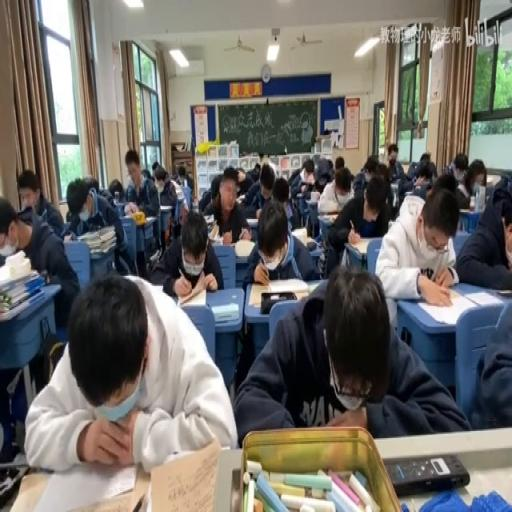calculator: (22, 455, 138, 511), (146, 436, 222, 510), (413, 286, 484, 327), (0, 266, 40, 294), (210, 301, 238, 323), (178, 287, 206, 307), (232, 238, 255, 258), (349, 236, 373, 255), (290, 224, 308, 248), (308, 244, 324, 258), (306, 278, 320, 292), (209, 233, 224, 246), (112, 200, 125, 214), (148, 248, 160, 263), (414, 176, 429, 188), (320, 213, 339, 222), (202, 213, 214, 225), (174, 186, 184, 200), (246, 215, 258, 226), (304, 196, 317, 206), (62, 233, 73, 243), (460, 205, 474, 212), (235, 193, 245, 202), (389, 181, 399, 189), (296, 190, 305, 198), (404, 191, 413, 196)
paper: (26, 270, 236, 471), (234, 268, 464, 442), (0, 190, 78, 337), (242, 198, 320, 293), (324, 169, 392, 273), (64, 174, 129, 282), (466, 294, 512, 430), (158, 206, 222, 299), (122, 145, 160, 260), (201, 164, 253, 243), (243, 161, 279, 219), (290, 156, 322, 219), (454, 157, 486, 209), (392, 151, 421, 202), (431, 171, 458, 202), (155, 176, 177, 214), (94, 174, 116, 204), (197, 179, 213, 212), (361, 155, 378, 183), (493, 175, 512, 199), (273, 182, 289, 206), (374, 162, 389, 186), (210, 174, 222, 200), (424, 161, 438, 182), (300, 161, 314, 176), (176, 165, 186, 185), (184, 172, 194, 192), (387, 145, 398, 162), (235, 168, 245, 183), (387, 160, 395, 178), (334, 155, 344, 169), (420, 151, 430, 165), (151, 161, 160, 176), (180, 204, 186, 224), (235, 180, 243, 194), (424, 182, 432, 196), (314, 181, 324, 192), (141, 168, 150, 180), (252, 161, 259, 176), (326, 158, 332, 173), (241, 151, 249, 158), (258, 152, 264, 161)
person: (384, 452, 470, 494), (0, 466, 26, 509), (260, 292, 296, 314), (493, 287, 512, 295)
